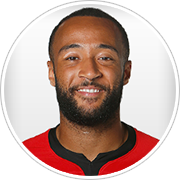smile: (75, 85, 105, 97)
